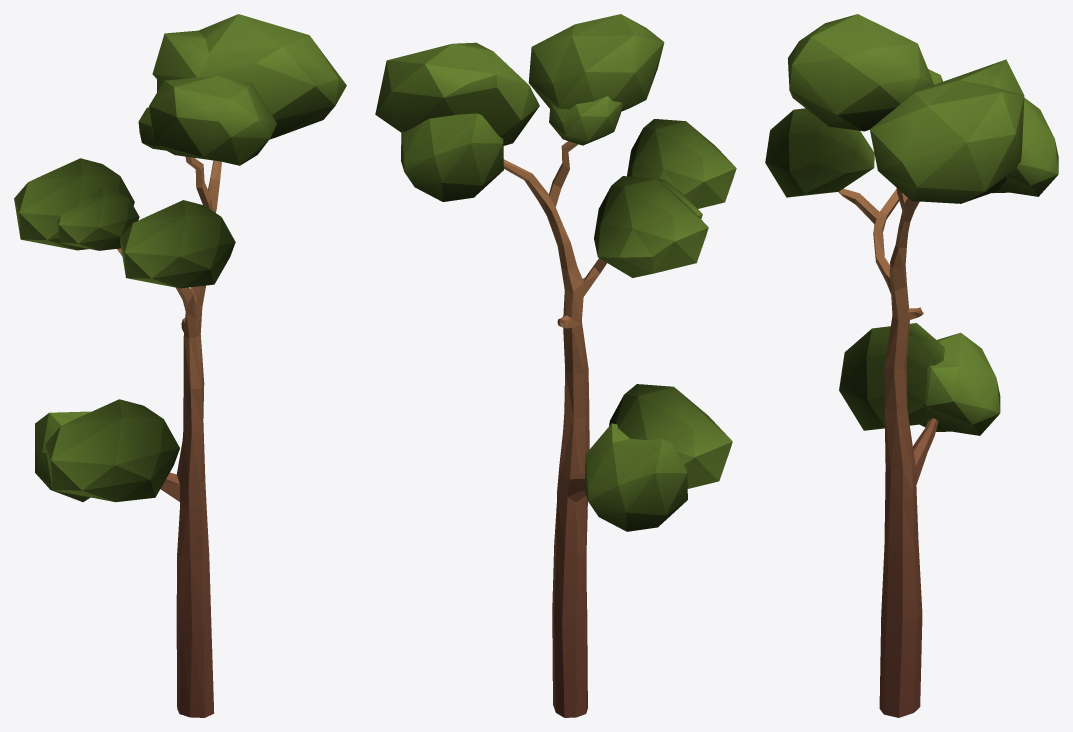
File: ZLP_Plant_E_2.FBX
3 renders of one model, left to right at view 1: azimuth 30°, elevation 25°; view 2: azimuth 150°, elevation 25°; view 3: azimuth 270°, elevation 25°, orthographic. The views are drawn at different scales.
Visible parts, largest first — view 1: ZLP_Plant_E_2; view 2: ZLP_Plant_E_2; view 3: ZLP_Plant_E_2.
Part boxes in pixels (x1,y1,x2,y2): ZLP_Plant_E_2: (14,14,346,717); ZLP_Plant_E_2: (375,14,736,717); ZLP_Plant_E_2: (765,14,1058,717).
Size of the model in its own units: 329 by 647 by 255.
